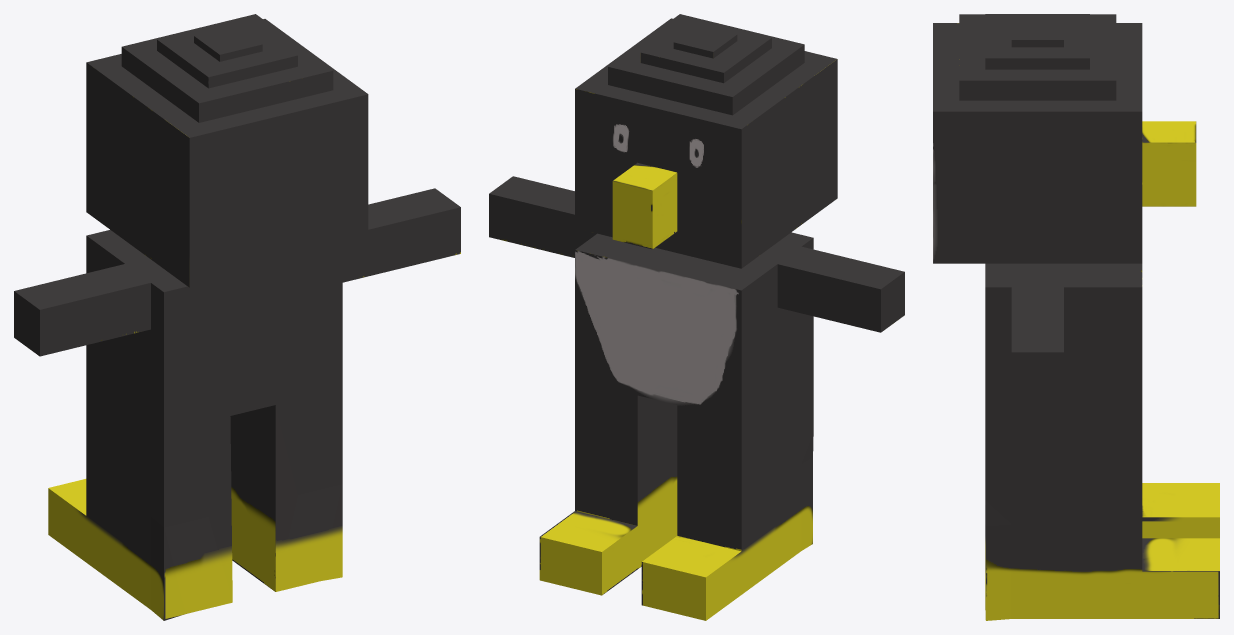
File: pengin.fbx
3 views of the same model, side by side, from view 1: azimuth 30°, elevation 25°; view 2: azimuth 150°, elevation 25°; view 3: azimuth 270°, elevation 25° (orthographic). The views are drawn at different scales.
Visible parts, largest first — view 1: Cube; view 2: Cube; view 3: Cube.
Part boxes in pixels (box(x1,y1,x2,y2)): Cube: box(14, 14, 460, 620); Cube: box(489, 14, 904, 620); Cube: box(933, 14, 1219, 620).
Bounding box in the file's own units: 471 × 577 × 274.
